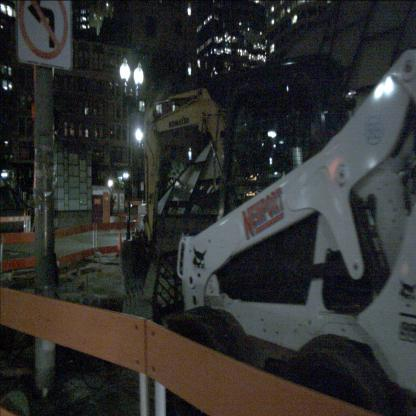movable_object-trafficcone: (116, 229, 124, 258), (22, 208, 28, 239)
